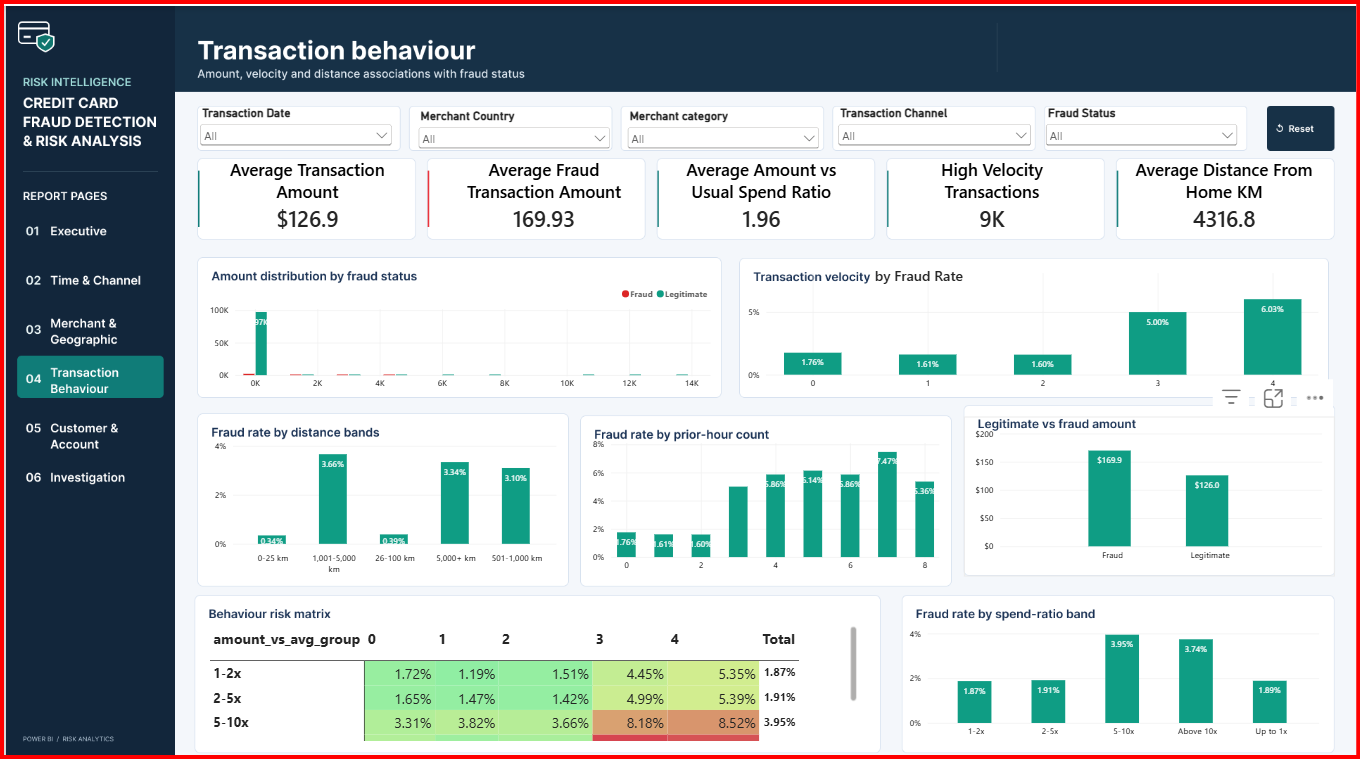

This screenshot's page, from the dashboard's own definition file:
{"tool":"powerbi","page":{"name":"Page 4","canvas":[1920,1080],"ordinal":3},"visuals":[{"type":"group","id":"g1","title":"Group 1","box":[17.5,288.5,212,415.2],"z":0},{"type":"shape","box":[17.5,288.5,212,61.2],"z":0,"group":"g1"},{"type":"shape","box":[1793.2,140.9,93.2,70.5],"z":1000},{"type":"shape","box":[17.5,349.7,212,61.2],"z":1000,"group":"g1"},{"type":"cardVisual","fields":{"Data":["credit_card_fraud.Average Transaction Amount"]},"box":[272.5,212.5,310,115],"z":2000},{"type":"shape","box":[17.5,419.6,212,61.2],"z":2000,"group":"g1"},{"type":"cardVisual","fields":{"Data":["credit_card_fraud.Average Fraud Transaction Amount"]},"box":[610,212.5,310,115],"z":3000},{"type":"shape","box":[17.5,504.9,212,61.2],"z":3000,"group":"g1"},{"type":"cardVisual","fields":{"Data":["credit_card_fraud.Average Amount vs Usual Spend Ratio"]},"box":[920,212.5,307.5,115],"z":4000},{"type":"shape","box":[17.5,566.1,212,61.2],"z":4000,"group":"g1"},{"type":"cardVisual","fields":{"Data":["credit_card_fraud.High Velocity Transactions"]},"box":[1247.5,212.5,307.5,115],"z":5000},{"type":"shape","box":[17.5,642.5,212,61.2],"z":5000,"group":"g1"},{"type":"cardVisual","fields":{"Data":["credit_card_fraud.Average Distance From Home KM"]},"box":[1577.5,212.5,307.5,115],"z":6000},{"type":"clusteredColumnChart","fields":{"Category":["credit_card_fraud.transaction_amount (bins)"],"Series":["credit_card_fraud.Fraud Status Label"],"Y":["credit_card_fraud.Total Transactions"]},"box":[273.3,379.4,744.6,186.1],"z":7000},{"type":"clusteredColumnChart","fields":{"Category":["credit_card_fraud.transactions_last_1h_group"],"Y":["credit_card_fraud.Fraud Rate"]},"box":[1039.1,358.2,843.6,207.4],"z":8000,"group":"g3"},{"type":"clusteredColumnChart","fields":{"Category":["credit_card_fraud.distance_from_home_group"],"Y":["credit_card_fraud.Fraud Rate"]},"box":[273.3,600.9,525.5,226.2],"z":9000},{"type":"clusteredColumnChart","fields":{"Category":["credit_card_fraud.transactions_last_1h"],"Y":["credit_card_fraud.Fraud Rate"]},"box":[817.6,598.5,525.5,226.2],"z":10000},{"type":"clusteredColumnChart","fields":{"Category":["credit_card_fraud.Fraud Status Label"],"Y":["credit_card_fraud.Average Transaction Amount"]},"box":[1362,584.4,525.5,226.2],"z":11000},{"type":"pivotTable","fields":{"Columns":["credit_card_fraud.transactions_last_1h_group"],"Rows":["credit_card_fraud.amount_vs_avg_group"],"Values":["credit_card_fraud.Fraud Rate"]},"box":[273.3,867.1,952,193.2],"z":12000},{"type":"slicer","fields":{"Values":["credit_card_fraud.transaction_date.Variation.Date Hierarchy.Month","credit_card_fraud.transaction_date.Variation.Date Hierarchy.Day"]},"box":[272,142,282,68],"z":13000,"group":"g2"},{"type":"clusteredColumnChart","fields":{"Category":["credit_card_fraud.amount_vs_avg_group"],"Y":["credit_card_fraud.Fraud Rate"]},"box":[1267.7,867.1,615,193.2],"z":13000},{"type":"group","id":"g2","title":"Group 2","box":[272,142,1484,72],"z":13001},{"type":"textbox","title":"by Fraud Rate ","box":[1235,370,172.5,35],"z":13002,"group":"g3"},{"type":"group","id":"g3","title":"Group 3","box":[1039.1,358.2,843.6,207.4],"z":13003},{"type":"slicer","fields":{"Values":["credit_card_fraud.merchant_country"]},"box":[582,146,282,60],"z":14000,"group":"g2"},{"type":"slicer","fields":{"Values":["credit_card_fraud.transaction_channel"]},"box":[1180,142,284,66],"z":15000,"group":"g2"},{"type":"slicer","fields":{"Values":["credit_card_fraud.Fraud Status Label"]},"box":[1474,142,282,68],"z":16000,"group":"g2"},{"type":"slicer","fields":{"Values":["credit_card_fraud.merchant_category"]},"box":[880,146,282,68],"z":17000,"group":"g2"}]}

Visuals, with their boxes on the page's 1920x1080 design canvas (x1, y1, x2, y2). These are canvas units, not pixel positions in the 1360x759 screenshot, which may show the page scaled, cropped or inside an application window:
"Group 1" group: x1=18 y1=288 x2=230 y2=704
shape: x1=18 y1=288 x2=230 y2=350
shape: x1=1793 y1=141 x2=1886 y2=211
shape: x1=18 y1=350 x2=230 y2=411
cardVisual - credit_card_fraud.Average Transaction Amount: x1=272 y1=212 x2=582 y2=328
shape: x1=18 y1=420 x2=230 y2=481
cardVisual - credit_card_fraud.Average Fraud Transaction Amount: x1=610 y1=212 x2=920 y2=328
shape: x1=18 y1=505 x2=230 y2=566
cardVisual - credit_card_fraud.Average Amount vs Usual Spend Ratio: x1=920 y1=212 x2=1228 y2=328
shape: x1=18 y1=566 x2=230 y2=627
cardVisual - credit_card_fraud.High Velocity Transactions: x1=1248 y1=212 x2=1555 y2=328
shape: x1=18 y1=642 x2=230 y2=704
cardVisual - credit_card_fraud.Average Distance From Home KM: x1=1578 y1=212 x2=1885 y2=328
clusteredColumnChart - credit_card_fraud.transaction_amount (bins) x credit_card_fraud.Fraud Status Label: x1=273 y1=379 x2=1018 y2=566
clusteredColumnChart - credit_card_fraud.transactions_last_1h_group x credit_card_fraud.Fraud Rate: x1=1039 y1=358 x2=1883 y2=566
clusteredColumnChart - credit_card_fraud.distance_from_home_group x credit_card_fraud.Fraud Rate: x1=273 y1=601 x2=799 y2=827
clusteredColumnChart - credit_card_fraud.transactions_last_1h x credit_card_fraud.Fraud Rate: x1=818 y1=598 x2=1343 y2=825
clusteredColumnChart - credit_card_fraud.Fraud Status Label x credit_card_fraud.Average Transaction Amount: x1=1362 y1=584 x2=1888 y2=811
pivotTable - credit_card_fraud.transactions_last_1h_group x credit_card_fraud.amount_vs_avg_group: x1=273 y1=867 x2=1225 y2=1060
slicer - credit_card_fraud.transaction_date.Variation.Date Hierarchy.Month x credit_card_fraud.transaction_date.Variation.Date Hierarchy.Day: x1=272 y1=142 x2=554 y2=210
clusteredColumnChart - credit_card_fraud.amount_vs_avg_group x credit_card_fraud.Fraud Rate: x1=1268 y1=867 x2=1883 y2=1060
"Group 2" group: x1=272 y1=142 x2=1756 y2=214
"by Fraud Rate " textbox: x1=1235 y1=370 x2=1408 y2=405
"Group 3" group: x1=1039 y1=358 x2=1883 y2=566
slicer - credit_card_fraud.merchant_country: x1=582 y1=146 x2=864 y2=206
slicer - credit_card_fraud.transaction_channel: x1=1180 y1=142 x2=1464 y2=208
slicer - credit_card_fraud.Fraud Status Label: x1=1474 y1=142 x2=1756 y2=210
slicer - credit_card_fraud.merchant_category: x1=880 y1=146 x2=1162 y2=214
